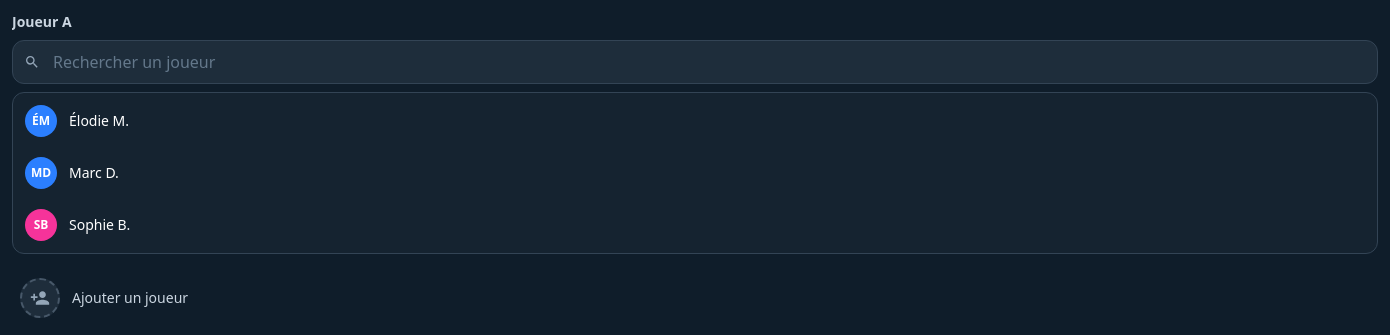
Test: PlayerPicker › says so when a search matches nobody
The image size is (1390, 335).
Type "zzzz" into the field named "Rechercher Joueur A" at [695, 62], box [12, 40, 1378, 84]
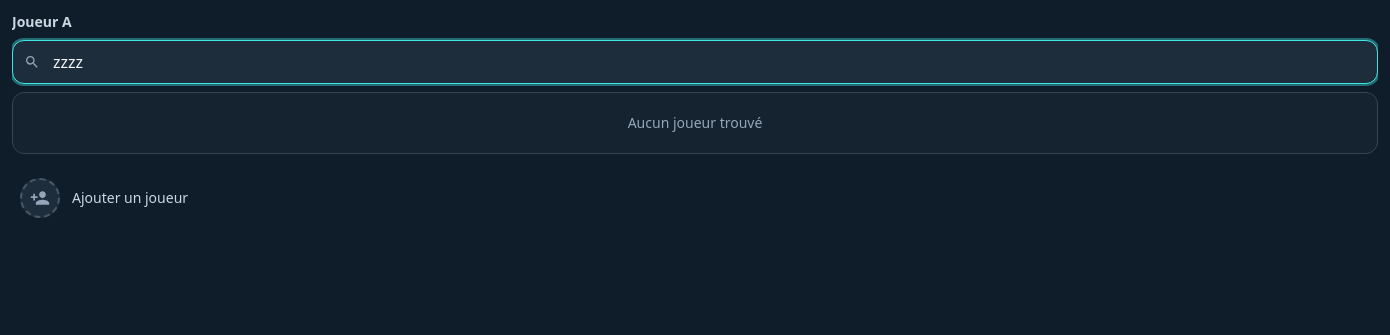
Now the list item "Aucun joueur trouvé" is shown, box [628, 113, 762, 132]
